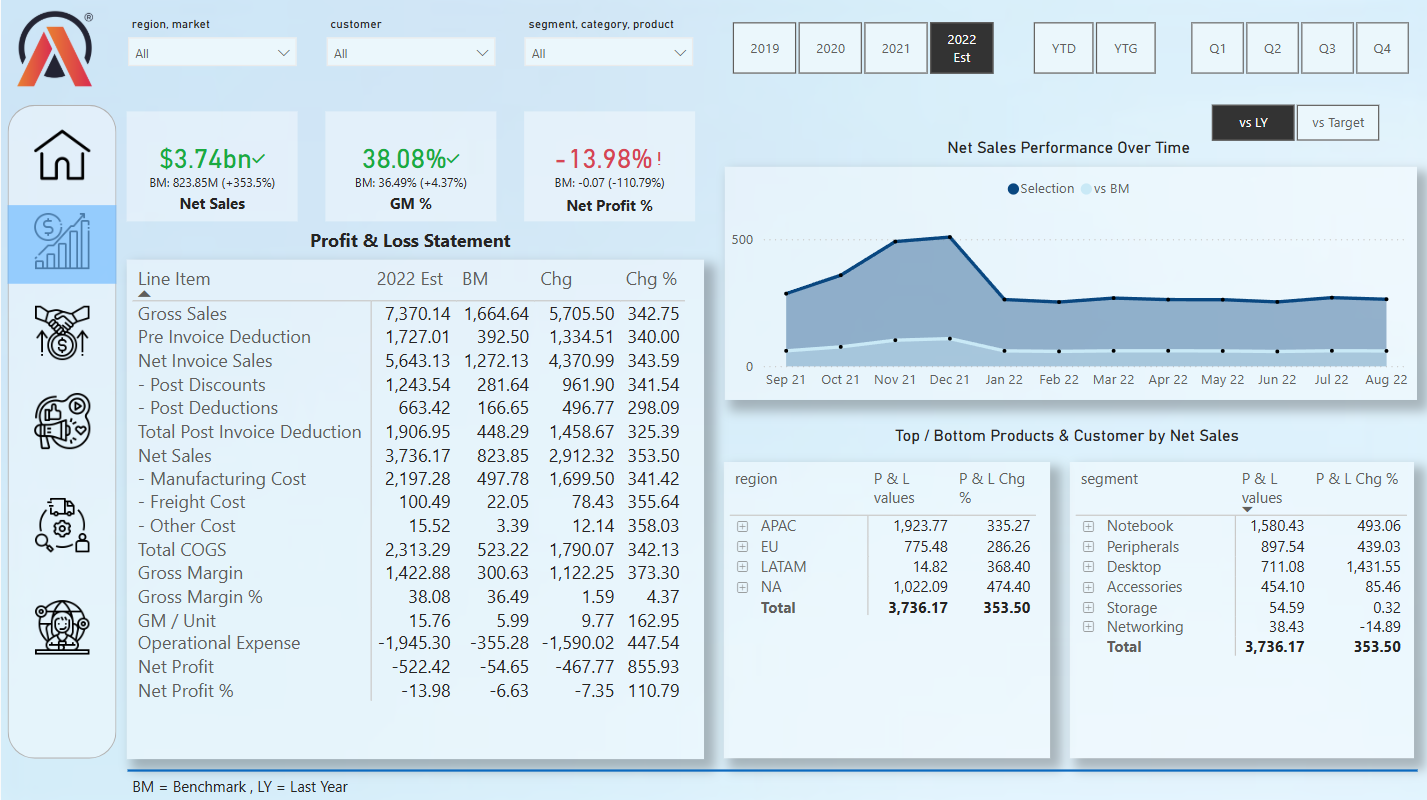

The page's visual inventory and layout, read from the dashboard file:
{"tool":"powerbi","page":{"name":"Finance View","canvas":[1280,720],"ordinal":2},"visuals":[{"type":"slicer","fields":{"Values":["fiscal_year.fy_desc"]},"box":[627.5,15.3,282.4,59.8],"z":0},{"type":"pivotTable","fields":{"Rows":["P & L Rows.Line Item"],"Columns":["P & L Columns.Col Header"],"Values":["Key Measures.P & L Final Value"]},"box":[112,233.8,515.7,445.5],"z":1000},{"type":"slicer","fields":{"Values":["dim_date.ytd_ytg"]},"box":[896,15.3,158.6,59.8],"z":2000},{"type":"slicer","fields":{"Values":["dim_date.quarters"]},"box":[1036.5,15.3,243.5,59.8],"z":3000},{"type":"areaChart","fields":{"Category":["dim_date.date"],"Y":["Key Measures.P & L values","Key Measures.P & L BM"]},"box":[645.7,151.6,617.5,207.9],"z":4000},{"type":"pivotTable","fields":{"Rows":["dim_market.region","dim_market.market","dim_customer.customer"],"Values":["Key Measures.P & L values","Key Measures.P & L YoY Chg %"]},"box":[644.9,414.8,291.7,264.6],"z":5000},{"type":"pivotTable","fields":{"Rows":["dim_product.segment","dim_product.category","dim_product.product"],"Values":["Key Measures.P & L values","Key Measures.P & L YoY Chg %"]},"box":[953.8,414.8,307.7,264.6],"z":6000},{"type":"card","fields":{"Values":["Key Measures.Performance Visual Title"]},"box":[644.4,118.6,616.3,33],"z":7000},{"type":"card","fields":{"Values":["Key Measures.Top / Bottom N Title"]},"box":[640,369.2,621.5,45.5],"z":8000},{"type":"slicer","fields":{"Values":["dim_market.region","dim_market.market"]},"box":[103.9,12.8,170,55],"z":9000},{"type":"slicer","fields":{"Values":["dim_product.segment","dim_product.category","dim_product.product"]},"box":[457.8,12.8,169.8,55.4],"z":10000},{"type":"slicer","fields":{"Values":["dim_customer.customer"]},"box":[280.9,12.8,169.8,55.4],"z":11000},{"type":"kpi","fields":{"Indicator":["Key Measures.NS $"],"Goal":["Key Measures.NS BM $"],"TrendLine":["dim_date.fiscal_year"]},"box":[112,102.2,152.6,98.5],"z":12000},{"type":"textbox","box":[112,169.8,152.6,30.8],"z":13000},{"type":"kpi","fields":{"TrendLine":["dim_date.fiscal_year"],"Indicator":["Key Measures.GM %"],"Goal":["Key Measures.GM % BM"]},"box":[289.2,102.2,152.6,98.5],"z":14000},{"type":"kpi","fields":{"TrendLine":["dim_date.fiscal_year"],"Indicator":["Key Measures.Net Profit %"],"Goal":["Key Measures.NP % BM"]},"box":[466.5,102.2,152.6,98.5],"z":15000},{"type":"textbox","box":[108.3,200.6,514.5,33.2],"z":16000},{"type":"textbox","box":[289.2,169.8,152.6,30.8],"z":17000},{"type":"textbox","box":[466.5,171.1,152.6,30.8],"z":18000},{"type":"image","box":[8.6,2.5,81.2,86.2],"z":19000},{"type":"shape","box":[6.2,96,97.2,583.4],"z":20000},{"type":"image","box":[24.6,187.1,60.3,60.3],"z":21000},{"type":"image","box":[24.6,269.5,60.3,60.3],"z":22000},{"type":"image","box":[24.6,348.3,60.3,60.3],"z":23000},{"type":"image","box":[24.6,440.6,60.3,60.3],"z":24000},{"type":"image","box":[24.6,531.7,60.3,60.3],"z":25000},{"type":"image","box":[24.6,110.8,60.3,60.3],"z":26000},{"type":"shape","box":[6.2,185.8,97.2,70.2],"z":27000},{"type":"textbox","box":[112,690.5,1149.5,29.5],"z":28000},{"type":"slicer","fields":{"Values":["Set BM.Benchmark"]},"box":[1054.8,88.6,199.4,46.8],"z":29000},{"type":"card","fields":{"Values":["Key Measures.BM Message"]},"box":[112,67.7,507.1,34.5],"z":30000},{"type":"shape","box":[112.5,660,1151.3,60.4],"z":31000}]}

Visuals, with their boxes in screenshot pixels (x1, y1, x2, y2), scaled from the page's 1280x720 canvas onto the 1427x800 screenshot:
slicer - fiscal_year.fy_desc: locate(700, 17, 1014, 83)
pivotTable - P & L Rows.Line Item x P & L Columns.Col Header: locate(125, 260, 700, 755)
slicer - dim_date.ytd_ytg: locate(999, 17, 1176, 83)
slicer - dim_date.quarters: locate(1156, 17, 1426, 83)
areaChart - dim_date.date x Key Measures.P & L values: locate(720, 168, 1408, 399)
pivotTable - dim_market.region x dim_market.market: locate(719, 461, 1044, 755)
pivotTable - dim_product.segment x dim_product.category: locate(1063, 461, 1406, 755)
card - Key Measures.Performance Visual Title: locate(718, 132, 1405, 168)
card - Key Measures.Top / Bottom N Title: locate(714, 410, 1406, 461)
slicer - dim_market.region x dim_market.market: locate(116, 14, 305, 75)
slicer - dim_product.segment x dim_product.category: locate(510, 14, 700, 76)
slicer - dim_customer.customer: locate(313, 14, 502, 76)
kpi - Key Measures.NS $ x Key Measures.NS BM $: locate(125, 114, 295, 223)
textbox: locate(125, 189, 295, 223)
kpi - dim_date.fiscal_year x Key Measures.GM %: locate(322, 114, 493, 223)
kpi - dim_date.fiscal_year x Key Measures.Net Profit %: locate(520, 114, 690, 223)
textbox: locate(121, 223, 694, 260)
textbox: locate(322, 189, 493, 223)
textbox: locate(520, 190, 690, 224)
image: locate(10, 3, 100, 99)
shape: locate(7, 107, 115, 755)
image: locate(27, 208, 95, 275)
image: locate(27, 299, 95, 366)
image: locate(27, 387, 95, 454)
image: locate(27, 490, 95, 557)
image: locate(27, 591, 95, 658)
image: locate(27, 123, 95, 190)
shape: locate(7, 206, 115, 284)
textbox: locate(125, 767, 1406, 799)
slicer - Set BM.Benchmark: locate(1176, 98, 1398, 150)
card - Key Measures.BM Message: locate(125, 75, 690, 114)
shape: locate(125, 733, 1409, 799)
